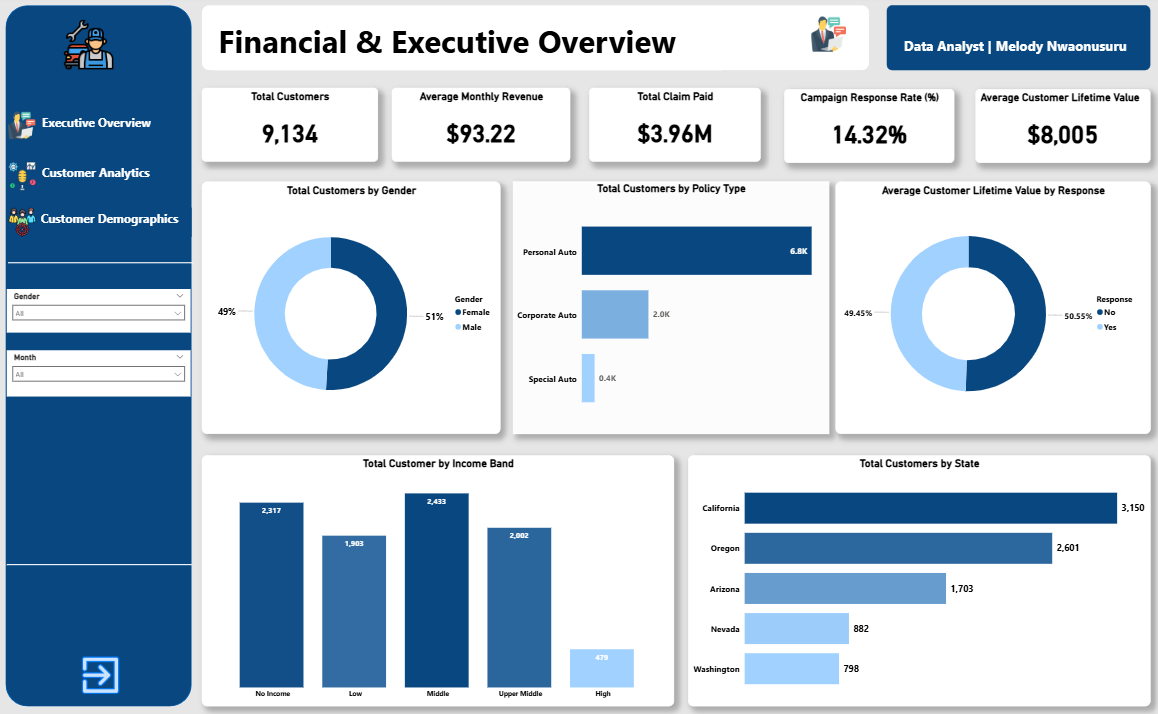

Layout of this report page (visuals, bound fields, positions):
{"tool":"powerbi","page":{"name":"Financial & Executive Overview","canvas":[2100,1300],"ordinal":0},"visuals":[{"type":"card","title":"Total Customers","fields":{"Values":["Measures Table.Total_Customer"]},"box":[375.1,168.5,316.7,132.5],"z":0},{"type":"card","title":"Average Monthly Revenue","fields":{"Values":["Measures Table.Total Monthly Revenue"]},"box":[716.5,168.5,321.2,132.5],"z":1000},{"type":"card","title":"Average Customer Lifetime Value","fields":{"Values":["Measures Table.Average CLV"]},"box":[1765.4,170.7,314.4,132.5],"z":2000},{"type":"card","title":"Campaign Response Rate (%)","fields":{"Values":["Measures Table.Overall Successful Rate"]},"box":[1421.7,170.7,305.5,132.5],"z":3000},{"type":"card","title":"Total Claim Paid","fields":{"Values":["Measures Table.Total Claims Paid"]},"box":[1071.4,168.5,307.7,132.5],"z":4000},{"type":"donutChart","title":"Total Customers by Gender","fields":{"Category":["Marketing_Clean.Gender"],"Y":["Measures Table.Total_Customer"]},"box":[375.1,336.9,536.8,453.7],"z":5000},{"type":"clusteredColumnChart","title":"Total Customer by Income Band","fields":{"Category":["Marketing_Clean.Income Band"],"Y":["Measures Table.Total_Customer"]},"box":[375.1,828.8,849,451.5],"z":6000},{"type":"clusteredBarChart","title":"Total Customers by Policy Type","fields":{"Category":["Marketing_Clean.Policy_Type"],"Y":["Measures Table.Total_Customer"]},"box":[934.4,336.9,568.2,453.7],"z":7000},{"type":"clusteredBarChart","title":"Total Customers by State","fields":{"Category":["Marketing_Clean.State"],"Y":["Measures Table.Total_Customer"]},"box":[1248.8,828.8,831,451.5],"z":8000},{"type":"donutChart","title":"Average Customer Lifetime Value by Response","fields":{"Category":["Marketing_Clean.Response"],"Y":["Measures Table.Average CLV"]},"box":[1513.8,336.9,566,453.7],"z":9000},{"type":"shape","box":[22.5,20.2,334.7,1260],"z":10000},{"type":"shape","box":[375.1,20.2,1199.4,116.8],"z":11000},{"type":"textbox","box":[399.8,40.4,909.6,96.6],"z":12000},{"type":"image","box":[1448.7,40.4,105.6,62.9],"z":13000},{"type":"image","box":[114.5,44.9,114.5,92.1],"z":14000},{"type":"image","box":[22.5,211.1,58.4,49.4],"z":15000},{"type":"image","box":[24.7,301,56.2,51.7],"z":16000},{"type":"shape","box":[1605.9,20.2,473.9,116.8],"z":17000},{"type":"image","box":[24.7,384.1,56.2,51.7],"z":18000},{"type":"shape","box":[27,435.7,332.4,94.3],"z":19000},{"type":"shape","box":[24.7,876,332.4,298.7],"z":20000},{"type":"textbox","box":[83.1,211.1,271.8,49.4],"z":21000},{"type":"slicer","fields":{"Values":["Marketing_Clean.Gender"]},"box":[24.7,530.1,330.2,78.6],"z":22000},{"type":"slicer","title":"Month","fields":{"Values":["DateTable.Month Name"]},"box":[24.7,640.1,330.2,83.1],"z":23000},{"type":"image","box":[157.2,1190.4,71.9,67.4],"z":24000},{"type":"textbox","box":[83.1,301,271.8,51.7],"z":25000},{"type":"textbox","box":[80.9,384.1,276.3,51.7],"z":26000},{"type":"textbox","box":[1621.6,71.9,431.2,47.2],"z":27000}]}

Visuals, with their boxes on the page's 2100x1300 design canvas (x1, y1, x2, y2). These are canvas units, not pixel positions in the 1158x714 screenshot, which may show the page scaled, cropped or inside an application window:
"Total Customers" card: 375, 168, 692, 301
"Average Monthly Revenue" card: 716, 168, 1038, 301
"Average Customer Lifetime Value" card: 1765, 171, 2080, 303
"Campaign Response Rate (%)" card: 1422, 171, 1727, 303
"Total Claim Paid" card: 1071, 168, 1379, 301
"Total Customers by Gender" donutChart: 375, 337, 912, 791
"Total Customer by Income Band" clusteredColumnChart: 375, 829, 1224, 1280
"Total Customers by Policy Type" clusteredBarChart: 934, 337, 1503, 791
"Total Customers by State" clusteredBarChart: 1249, 829, 2080, 1280
"Average Customer Lifetime Value by Response" donutChart: 1514, 337, 2080, 791
shape: 22, 20, 357, 1280
shape: 375, 20, 1574, 137
textbox: 400, 40, 1309, 137
image: 1449, 40, 1554, 103
image: 114, 45, 229, 137
image: 22, 211, 81, 260
image: 25, 301, 81, 353
shape: 1606, 20, 2080, 137
image: 25, 384, 81, 436
shape: 27, 436, 359, 530
shape: 25, 876, 357, 1175
textbox: 83, 211, 355, 260
slicer - Marketing_Clean.Gender: 25, 530, 355, 609
"Month" slicer: 25, 640, 355, 723
image: 157, 1190, 229, 1258
textbox: 83, 301, 355, 353
textbox: 81, 384, 357, 436
textbox: 1622, 72, 2053, 119
